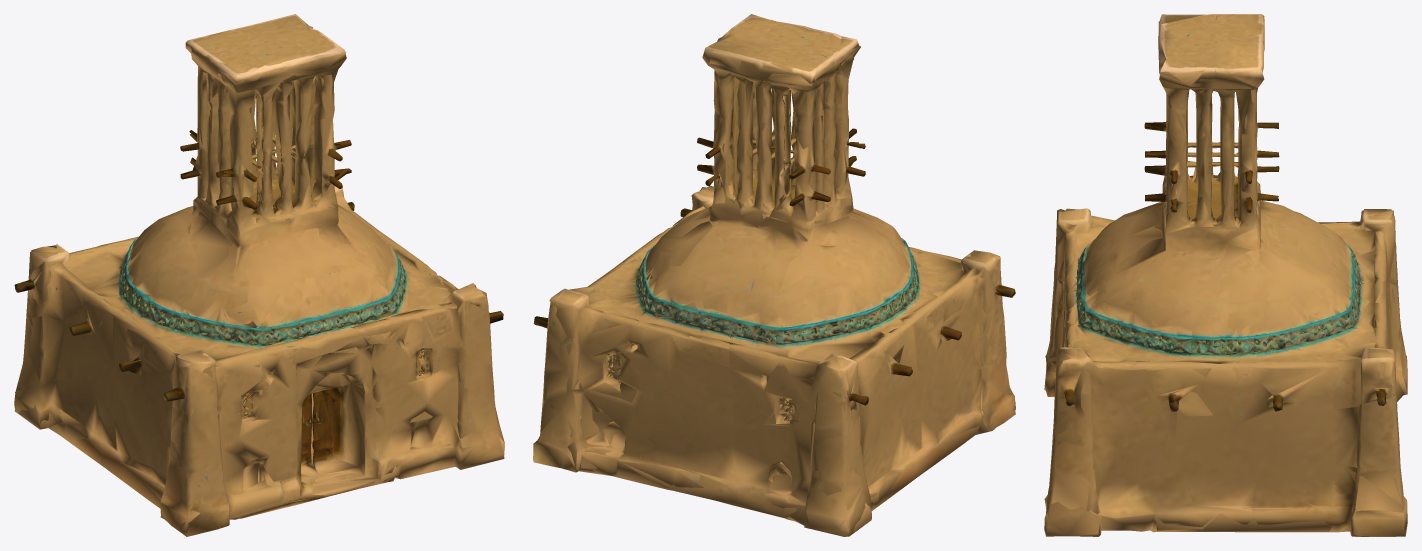
Rendered from BadgirHouse.glb.
3 views of the same model, side by side, from view 1: azimuth 30°, elevation 25°; view 2: azimuth 150°, elevation 25°; view 3: azimuth 270°, elevation 25° (orthographic). The views are drawn at different scales.
Size of the model in its own units: 1.69 by 1.9 by 1.51.
Materials: 1 (1 with a texture image).
